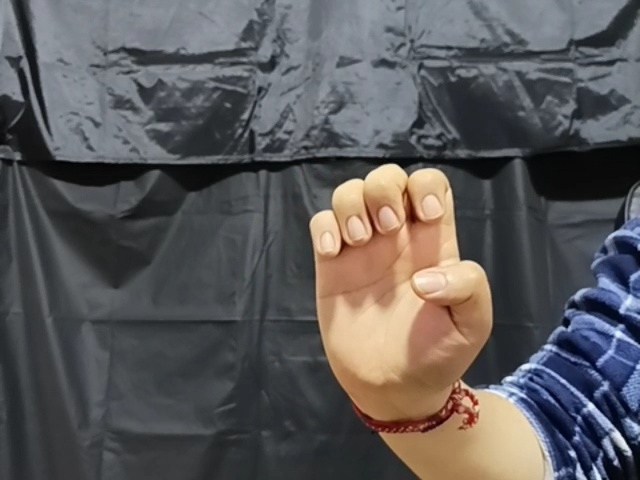E: (300, 158, 496, 409)
